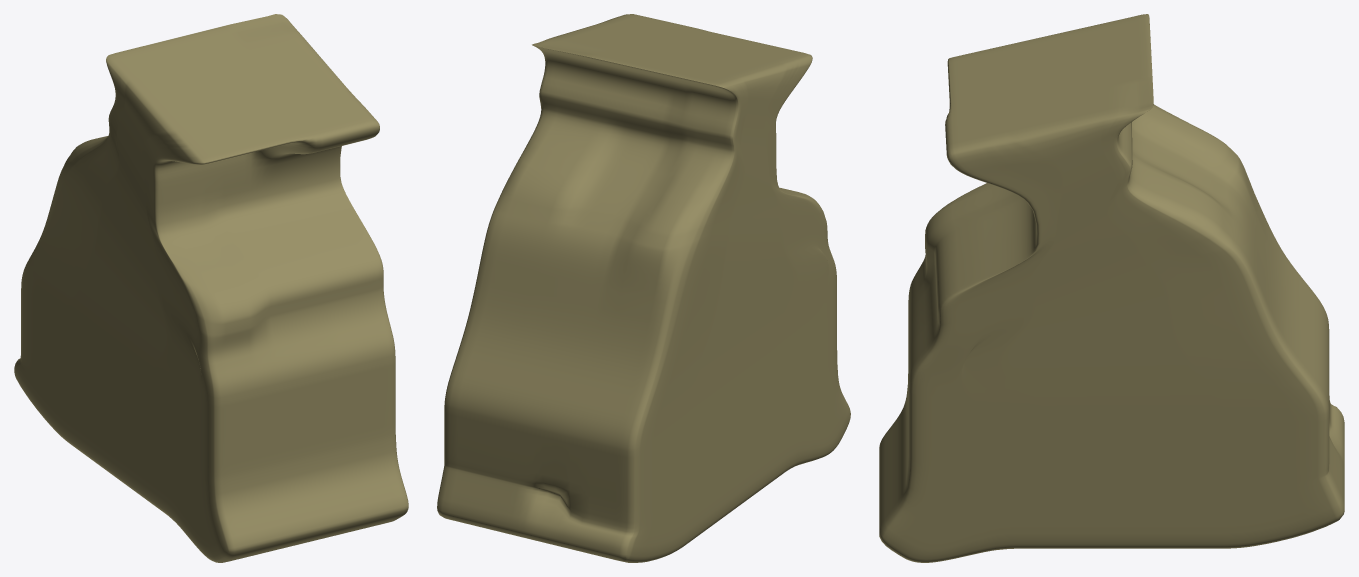
Rendered from sandbagt.fbx.
3 renders of one model, left to right at view 1: azimuth 30°, elevation 25°; view 2: azimuth 150°, elevation 25°; view 3: azimuth 270°, elevation 25°, orthographic. The views are drawn at different scales.
Parts seen in each view (by area): view 1: pCube1; view 2: pCube1; view 3: pCube1.
Boxes of the visible parts, box(x1,y1,x2,y2) form: pCube1: box(14, 14, 408, 562); pCube1: box(437, 14, 850, 562); pCube1: box(879, 14, 1344, 562).
Bounding box in the file's own units: 5.6 × 12.02 × 11.05.
